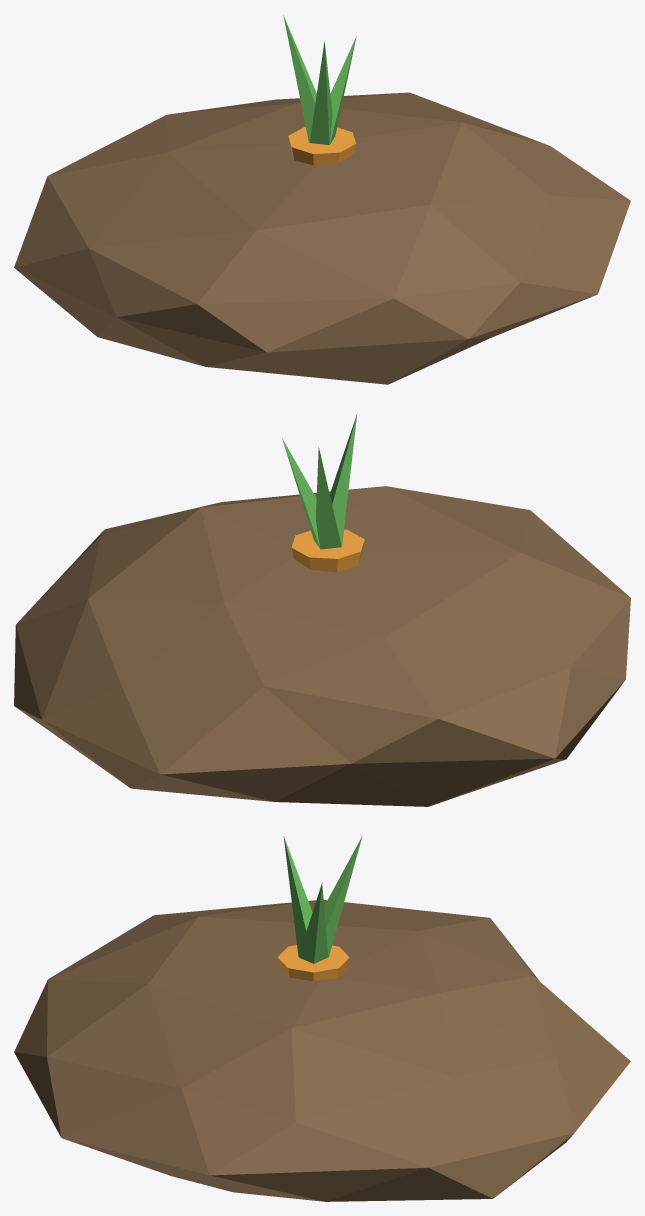
File: carotte_2_pousse.fbx
The picture shows the model from 3 angles, top to bottom: view 1: azimuth 30°, elevation 25°; view 2: azimuth 150°, elevation 25°; view 3: azimuth 270°, elevation 25°; orthographic projection. The views are drawn at different scales.
Visible parts, largest first — view 1: carotte_2_pousse; view 2: carotte_2_pousse; view 3: carotte_2_pousse.
Boxes of the visible parts, bbox=[...] form: carotte_2_pousse: bbox=[14, 15, 630, 384]; carotte_2_pousse: bbox=[14, 413, 630, 806]; carotte_2_pousse: bbox=[14, 836, 630, 1201].
Size of the model in its own units: 1.02 by 0.5859 by 1.03.
